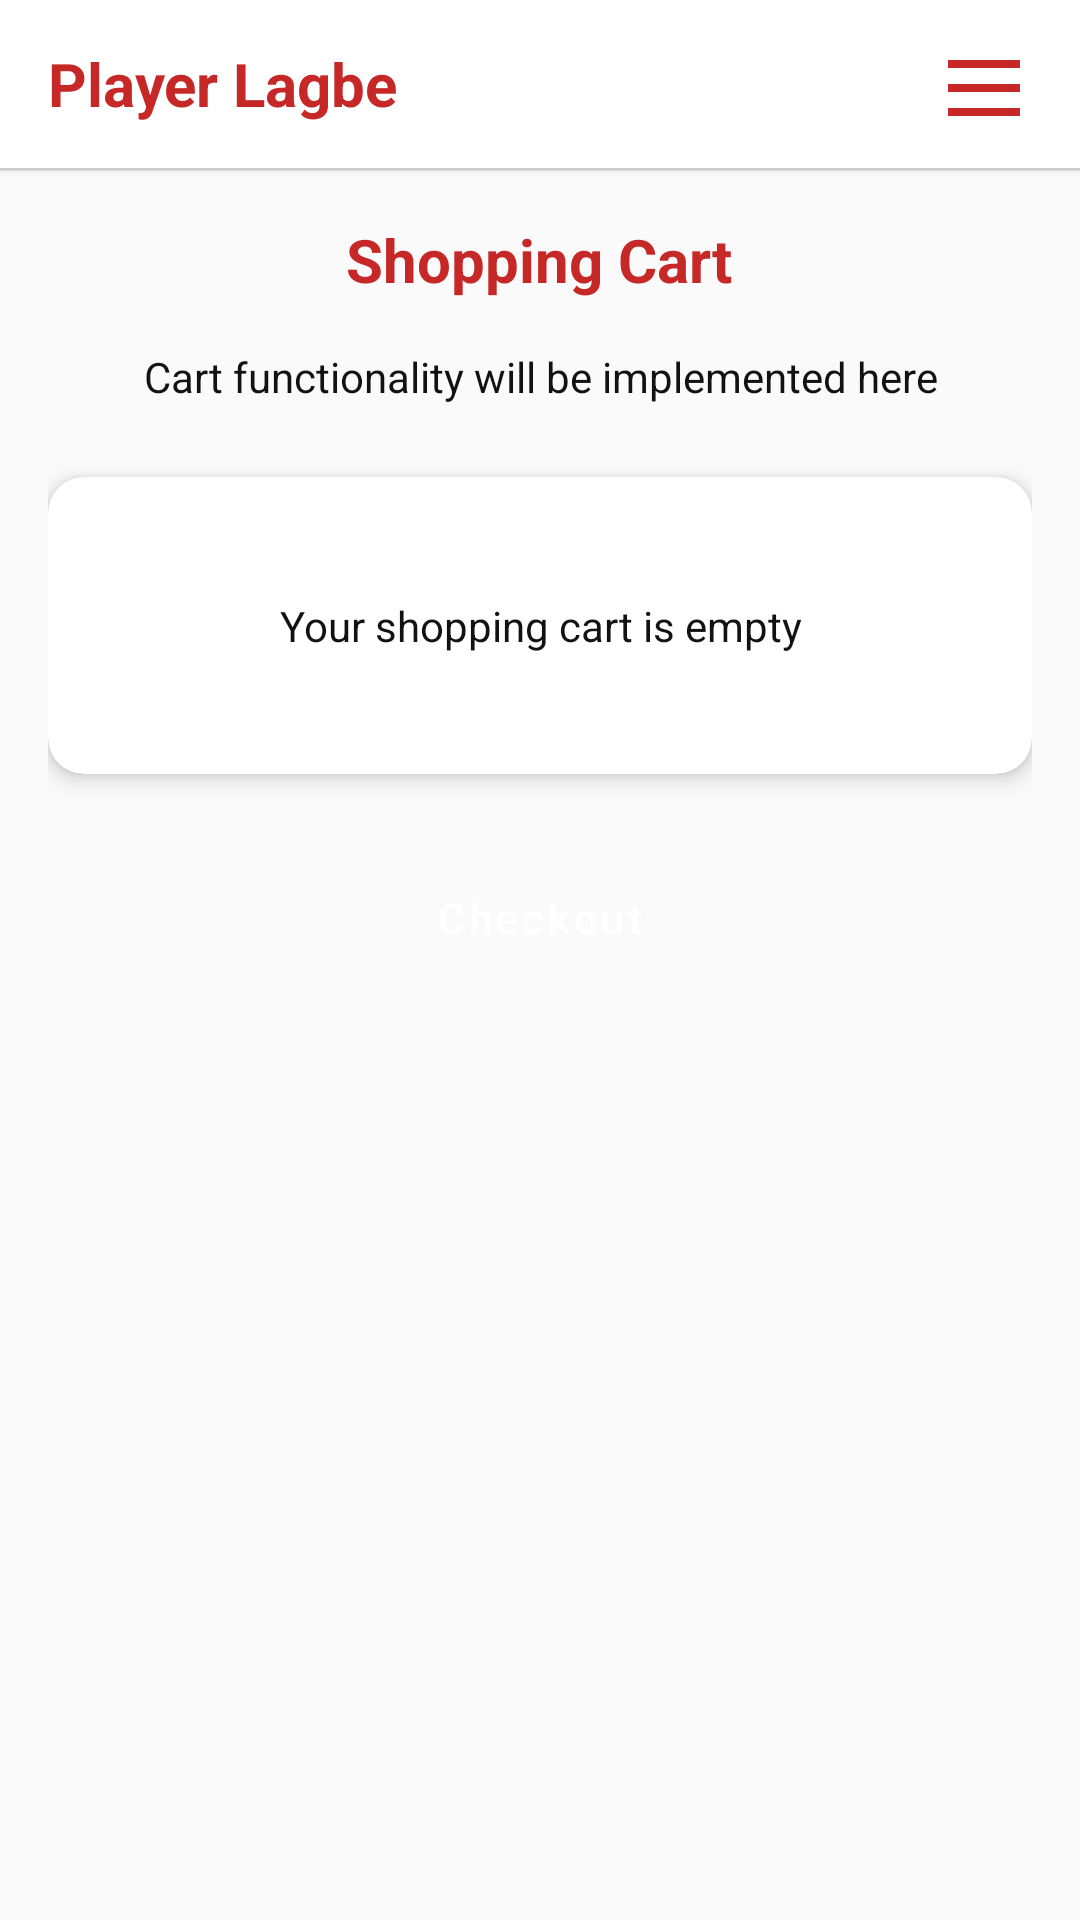

Screen size 1080×1920. Icon name, then its center in pixels as [x,y]:
Menu: [984,88]
